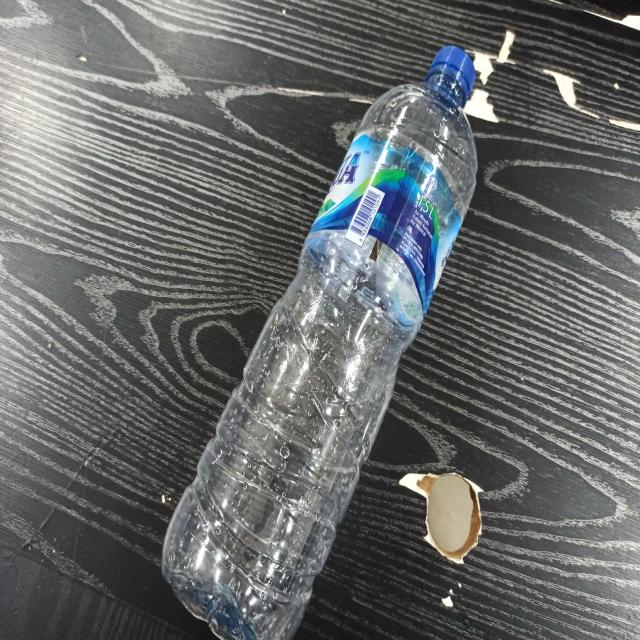BotolPlastik: (159, 43, 479, 638)
